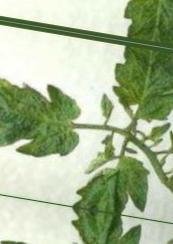Tomato leaf mosaic virus: (0, 61, 93, 169), (67, 146, 158, 217), (106, 44, 173, 127)
